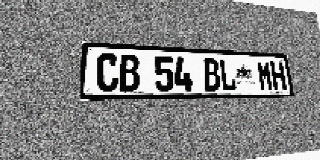4: (173, 57, 193, 91)
5: (154, 56, 174, 91)
B: (119, 54, 140, 92), (202, 58, 221, 91)
C: (96, 53, 118, 92)
H: (270, 61, 287, 91)
L: (219, 59, 237, 91)
M: (256, 61, 274, 91)
